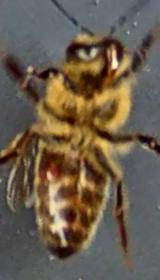varroa_mite: (38, 158, 68, 187)
